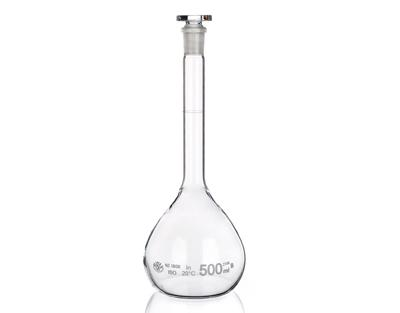Volumetric flask: (131, 19, 249, 298)
